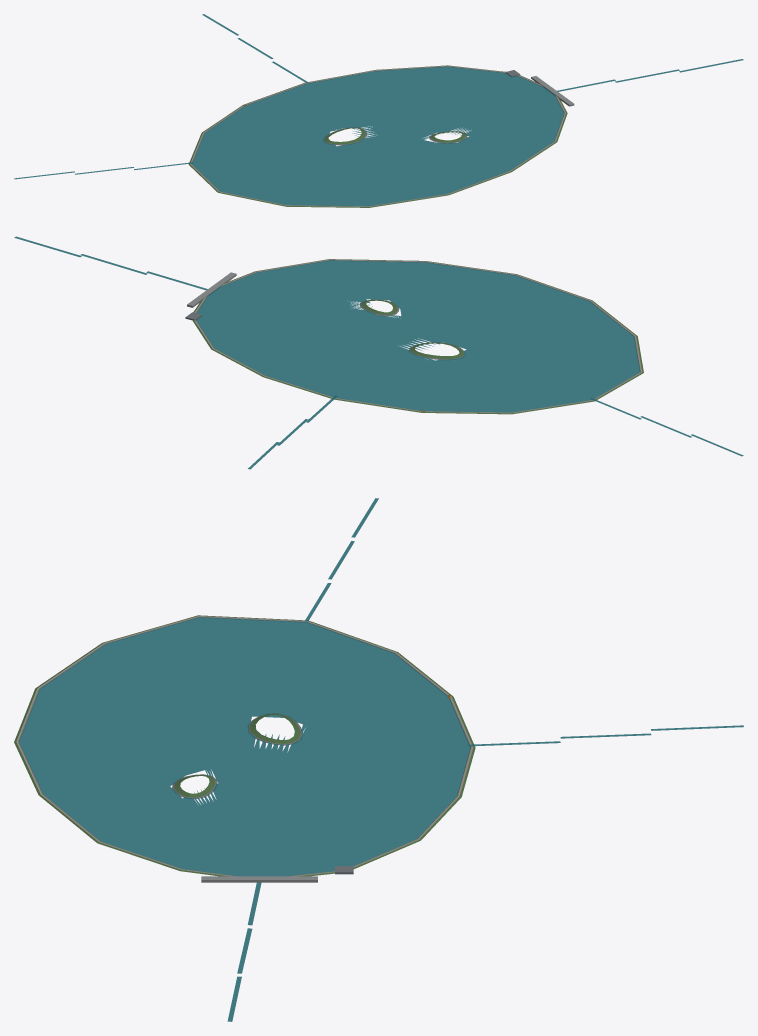
File: water_ho_quang_lap_don_duong.glb
3 renders of one model, top to bottom at view 1: azimuth 30°, elevation 25°; view 2: azimuth 150°, elevation 25°; view 3: azimuth 270°, elevation 25°, orthographic. The views are drawn at different scales.
Parts seen in each view (by area): view 1: water_surface_water_ho_quang_lap_don_duong, shoreline_terrain_transition_verge_water_ho_quang_lap_don_du, lakeside_promenade_walkway_water_ho_quang_lap_don_duong, embankment_stone_coping_water_ho_quang_lap_don_duong, headwater_terraces_stream_quang_lap_east_spillway_to_da_nhim; view 2: water_surface_water_ho_quang_lap_don_duong, shoreline_terrain_transition_verge_water_ho_quang_lap_don_du, lakeside_promenade_walkway_water_ho_quang_lap_don_duong, embankment_stone_coping_water_ho_quang_lap_don_duong, headwater_terraces_stream_quang_lap_east_spillway_to_da_nhim; view 3: water_surface_water_ho_quang_lap_don_duong, shoreline_terrain_transition_verge_water_ho_quang_lap_don_du, lakeside_promenade_walkway_water_ho_quang_lap_don_duong, embankment_stone_coping_water_ho_quang_lap_don_duong.
Boxes of the visible parts, <box> form: water_surface_water_ho_quang_lap_don_duong: <box>192,66,564,206</box>; shoreline_terrain_transition_verge_water_ho_quang_lap_don_du: <box>188,65,567,207</box>; lakeside_promenade_walkway_water_ho_quang_lap_don_duong: <box>190,65,565,206</box>; embankment_stone_coping_water_ho_quang_lap_don_duong: <box>191,66,564,206</box>; headwater_terraces_stream_quang_lap_east_spillway_to_da_nhim: <box>557,59,743,91</box>; water_surface_water_ho_quang_lap_don_duong: <box>196,260,639,412</box>; shoreline_terrain_transition_verge_water_ho_quang_lap_don_du: <box>192,259,643,414</box>; lakeside_promenade_walkway_water_ho_quang_lap_don_duong: <box>194,259,642,413</box>; embankment_stone_coping_water_ho_quang_lap_don_duong: <box>196,260,640,412</box>; headwater_terraces_stream_quang_lap_east_spillway_to_da_nhim: <box>14,236,207,290</box>; water_surface_water_ho_quang_lap_don_duong: <box>19,617,470,876</box>; shoreline_terrain_transition_verge_water_ho_quang_lap_don_du: <box>14,615,475,881</box>; lakeside_promenade_walkway_water_ho_quang_lap_don_duong: <box>16,616,473,876</box>; embankment_stone_coping_water_ho_quang_lap_don_duong: <box>18,616,471,876</box>.
Size of the model in its own units: 2977 by 52 by 1813.
